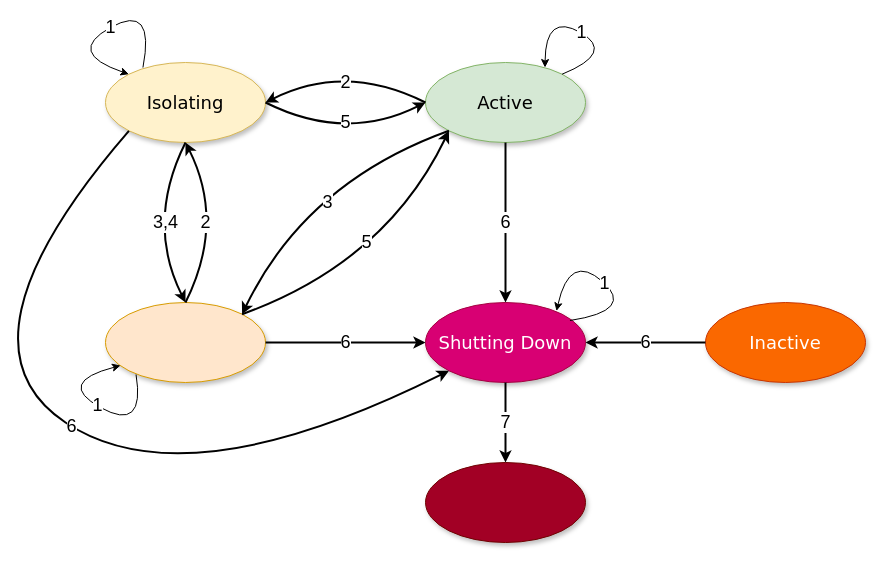
Some shapes in this 889 by 568 pixel diagram are drawn without their labels. Each missing label, with the centre of its shape:
Exit: (506,504)
Isolated: (186,344)
